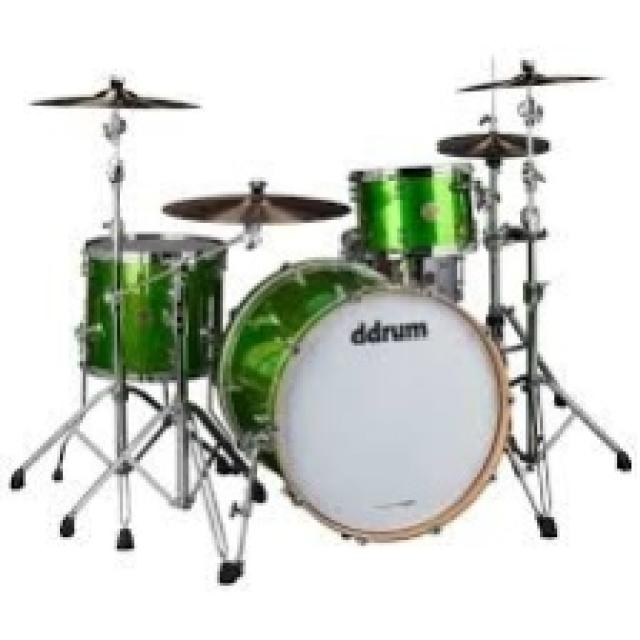drums: (19, 58, 633, 575)
